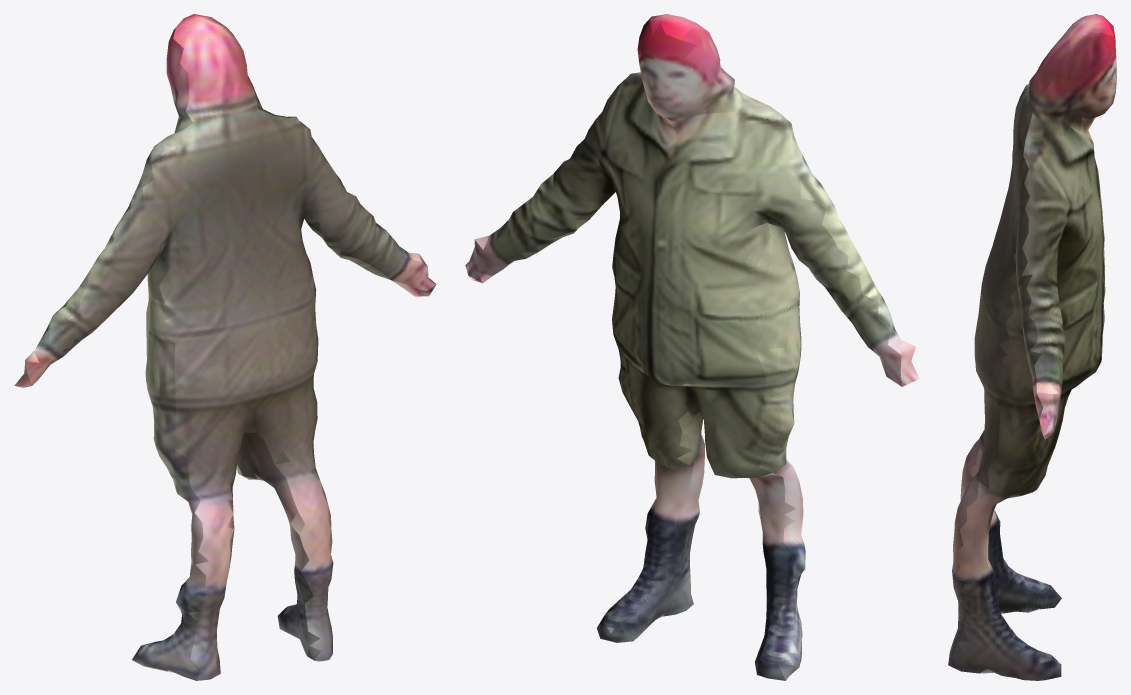
3 views of the same model, side by side, from view 1: azimuth 30°, elevation 25°; view 2: azimuth 150°, elevation 25°; view 3: azimuth 270°, elevation 25° (orthographic). The views are drawn at different scales.
Parts seen in each view (by area): view 1: world; view 2: world; view 3: world.
Part boxes in pixels (bbox=[...]): world: bbox=[14, 14, 436, 680]; world: bbox=[465, 14, 919, 680]; world: bbox=[948, 14, 1116, 680].
Size of the model in its own units: 0.7213 by 0.9996 by 0.2459.
1 material, 1 textured.
